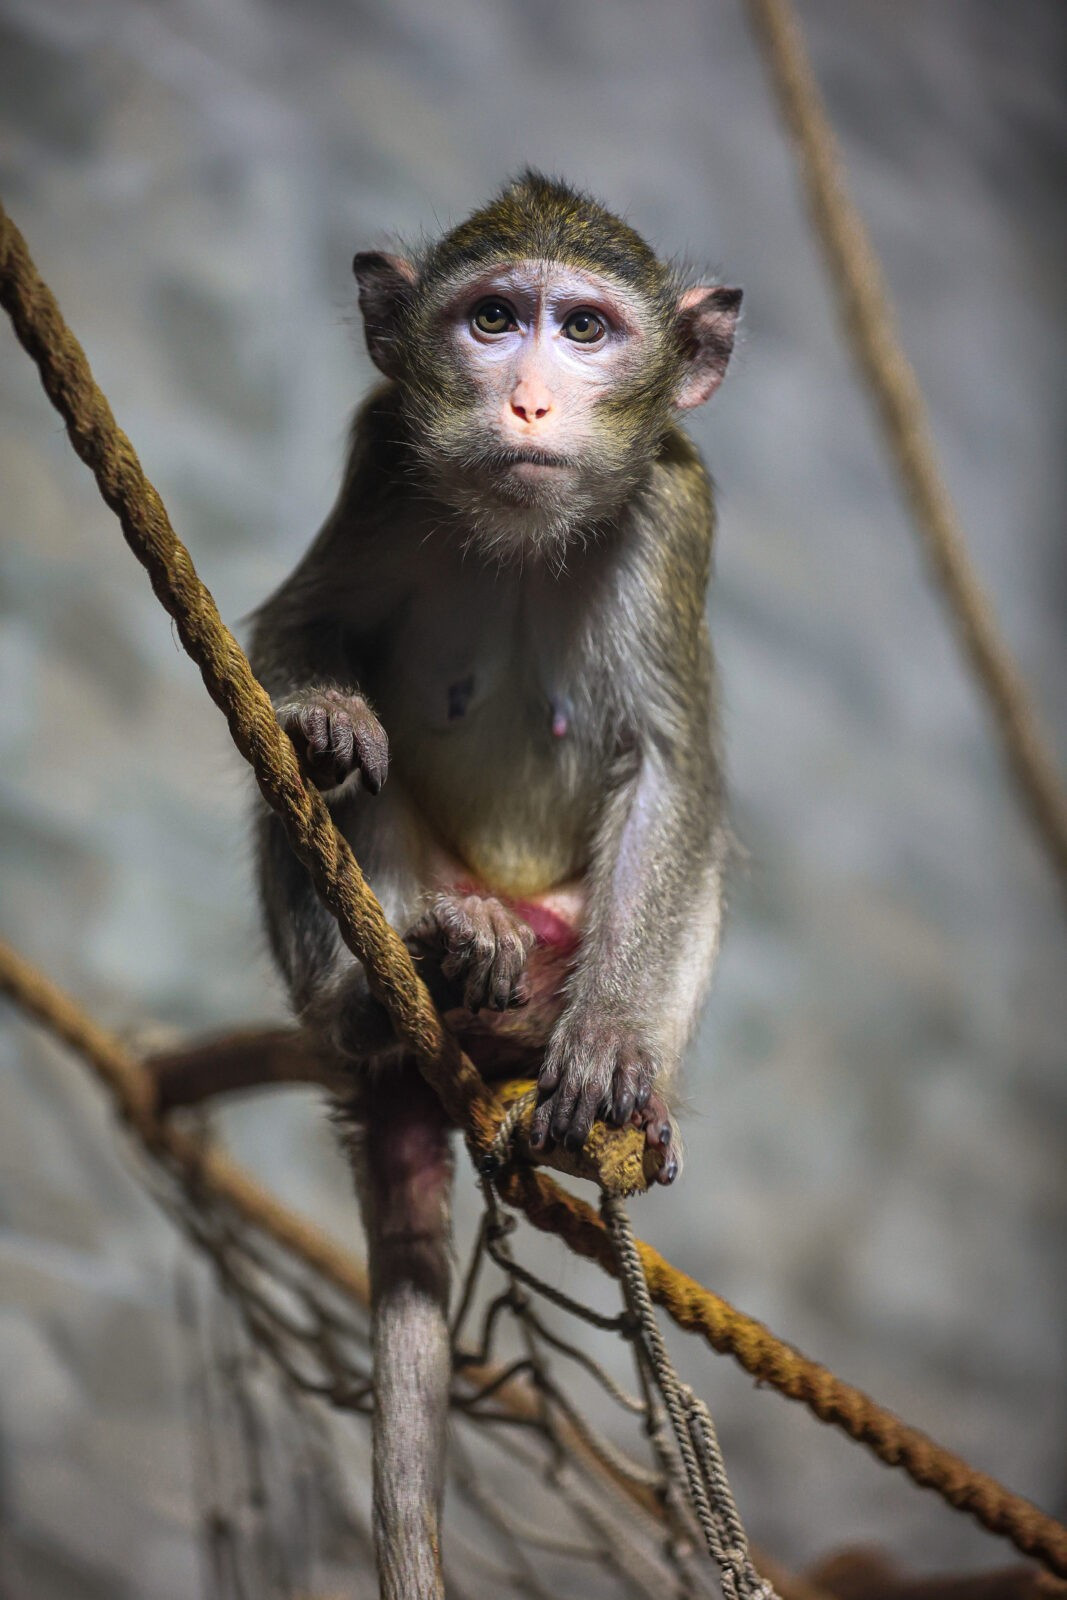ape: (227, 158, 754, 1600)
